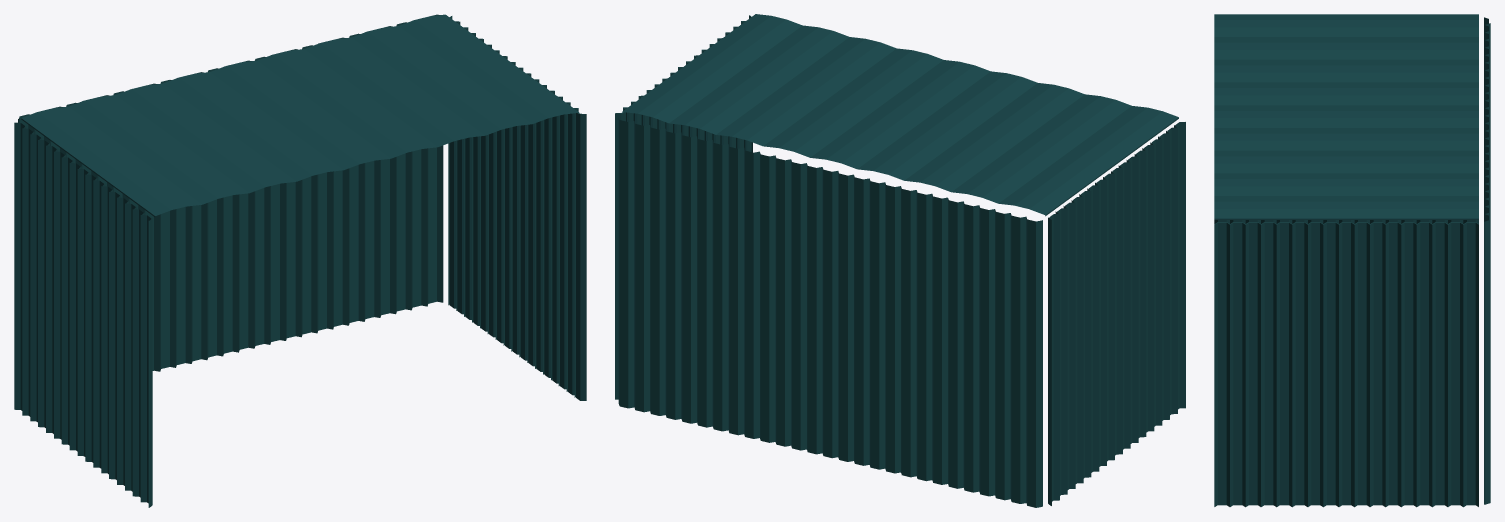
File: container.glb
The picture shows the model from 3 angles, left to right: view 1: azimuth 30°, elevation 25°; view 2: azimuth 150°, elevation 25°; view 3: azimuth 270°, elevation 25°; orthographic projection.
Visible parts, largest first — view 1: container-shell; view 2: container-shell; view 3: container-shell.
Part boxes in pixels (box(x1,y1,x2,y2)): container-shell: box(14, 14, 586, 507); container-shell: box(615, 14, 1185, 507); container-shell: box(1214, 14, 1490, 507).
Size of the model in its own units: 4.79 by 3.05 by 2.65.
